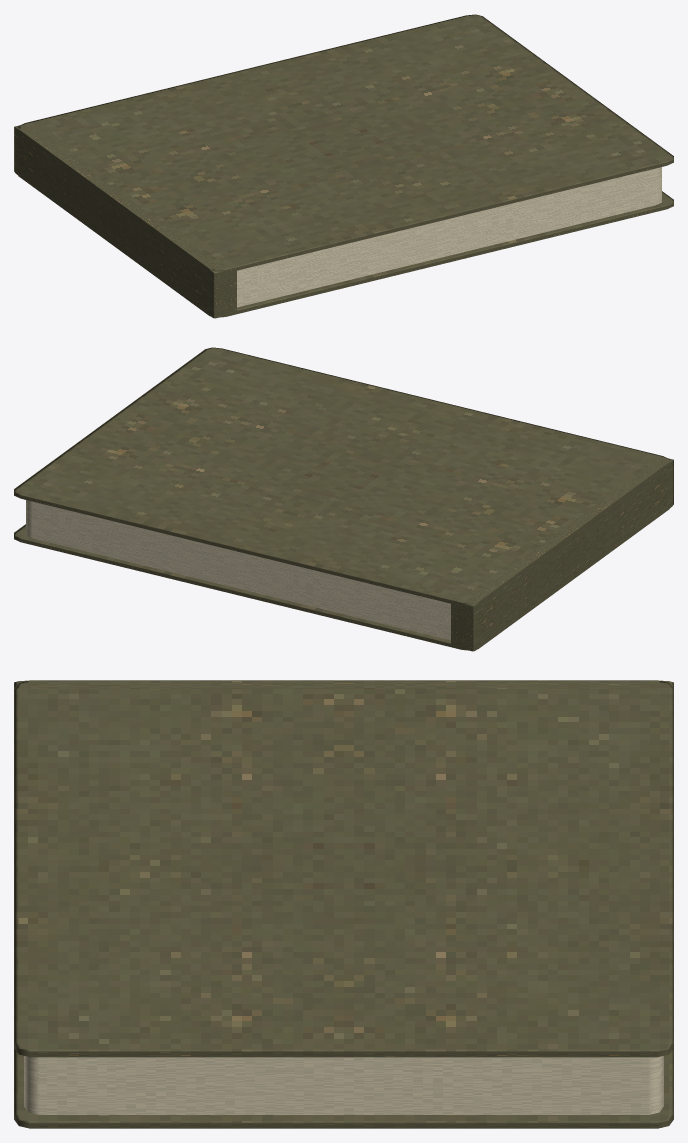
Rendered from visitor-log.glb.
The picture shows the model from 3 angles, top to bottom: view 1: azimuth 30°, elevation 25°; view 2: azimuth 150°, elevation 25°; view 3: azimuth 270°, elevation 25°; orthographic projection. The views are drawn at different scales.
Visible parts, largest first — view 1: cover (×2), pages, spine; view 2: cover (×2), pages, spine; view 3: cover (×2), pages, spine.
Boxes of the visible parts, x1,y1,x2,y2 form: cover (×2): (18,14,673,317); pages: (237,167,661,307); spine: (14,124,236,318); cover (×2): (14,347,669,650); pages: (26,500,450,640); spine: (451,457,673,651); cover (×2): (14,680,673,1128); pages: (24,1056,663,1114); spine: (14,680,673,697).
Bounding box in the file's own units: 0.28 × 0.027 × 0.21.
2 materials, 2 textured.
